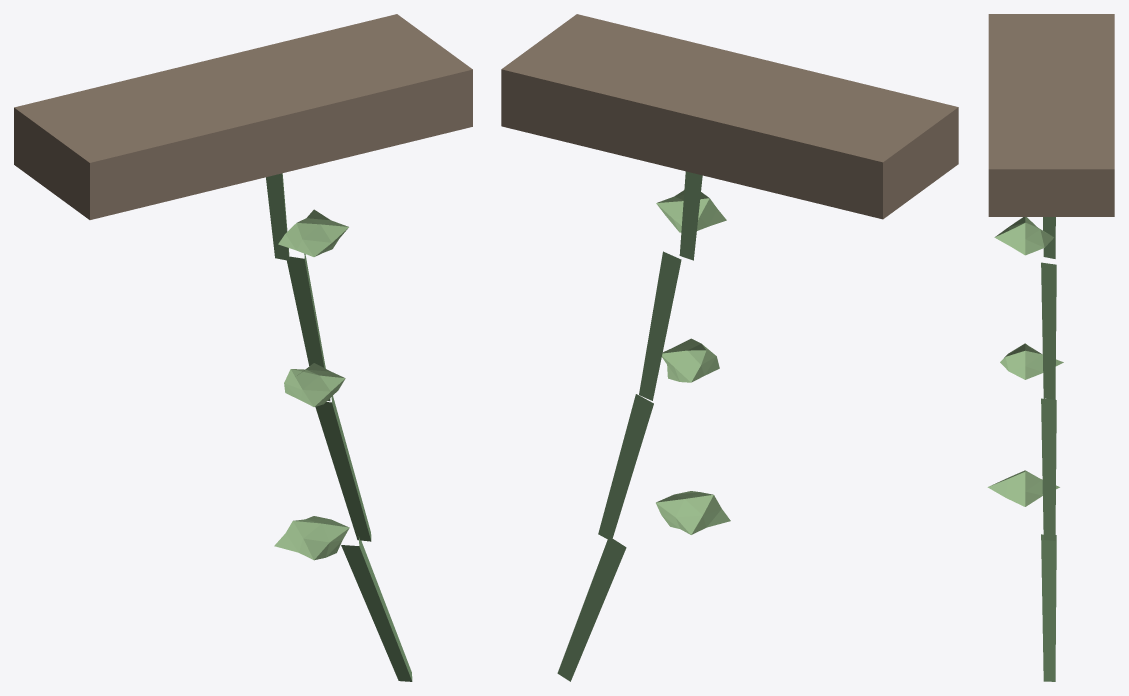
Rendered from vine_v21.glb.
3 renders of one model, left to right at view 1: azimuth 30°, elevation 25°; view 2: azimuth 150°, elevation 25°; view 3: azimuth 270°, elevation 25°, orthographic. The views are drawn at different scales.
Visible parts, largest first — view 1: lod0; view 2: lod0; view 3: lod0.
Part boxes in pixels (box(x1,y1,x2,y2)): lod0: box(14, 14, 472, 681); lod0: box(501, 14, 958, 681); lod0: box(987, 14, 1114, 681).
Size of what is drawn, in the model's own units: 0.7 by 1.1 by 0.2421.
